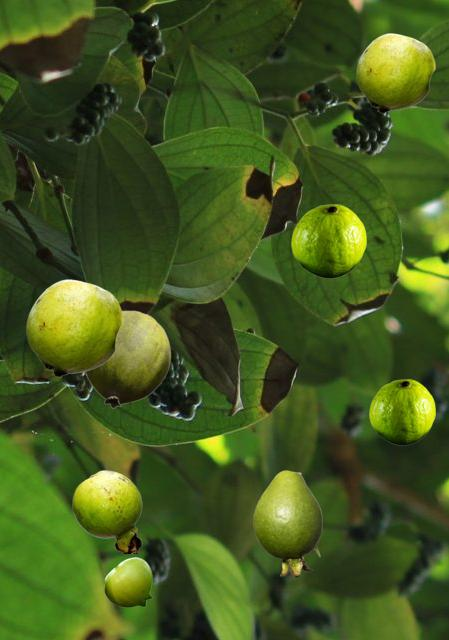guava: (26, 279, 122, 376), (85, 310, 170, 407), (253, 470, 321, 576), (356, 33, 434, 112), (72, 470, 141, 552), (291, 204, 365, 277), (369, 379, 434, 444), (104, 557, 151, 606)
